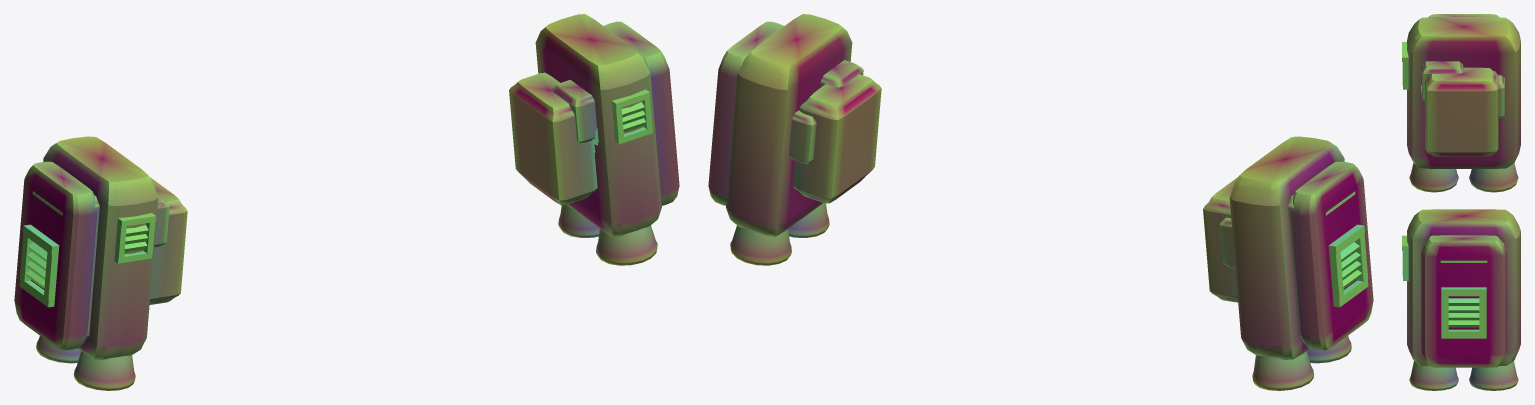
The model's file is llm_gen_leg_thrusters_059_8893b5.glb.
The picture shows the model from 3 angles, left to right: view 1: azimuth 30°, elevation 25°; view 2: azimuth 150°, elevation 25°; view 3: azimuth 270°, elevation 25°; orthographic projection. The views are drawn at different scales.
Visible parts, largest first — view 1: greave_pylon_0_adapter_dark_r, greave_pylon_0_adapter_dark_l, lateral_binder_shroud_2_gold_l, adapter_calf_clamp_r, lateral_binder_shroud_2_gold_r, adapter_calf_clamp_l, ankle_vector_bell_b_7_vernier_bell_vernier_l, ankle_vector_bell_b_7_vernier_bell_vernier_r, adapter_sub_binder_side_vent_3_dark_l, adapter_leg_knee_mount_dark_8_adapter_dark_r, adapter_sub_greave_intake_grille_5_dark_r, adapter_sub_greave_intake_grille_5_dark_l (+4 smaller); view 2: greave_pylon_0_adapter_dark_r, greave_pylon_0_adapter_dark_l, lateral_binder_shroud_2_gold_l, adapter_calf_clamp_r, lateral_binder_shroud_2_gold_r, adapter_calf_clamp_l, ankle_vector_bell_a_6_vernier_bell_vernier_l, ankle_vector_bell_a_6_vernier_bell_vernier_r, adapter_sub_binder_side_vent_3_dark_l, adapter_leg_tank_collar_dark_9_adapter_dark_r, ankle_vector_bell_b_7_vernier_bell_vernier_r, adapter_leg_knee_mount_dark_8_adapter_dark_r (+3 smaller); view 3: greave_pylon_0_adapter_dark_l, lateral_binder_shroud_2_gold_r, greave_pylon_0_adapter_dark_r, adapter_calf_clamp_l, adapter_sub_binder_side_vent_3_dark_r, ankle_vector_bell_a_6_vernier_bell_vernier_r, ankle_vector_bell_b_7_vernier_bell_vernier_r, ankle_vector_bell_a_6_vernier_bell_vernier_l, ankle_vector_bell_b_7_vernier_bell_vernier_l, binder_side_vent_3_intake_gold_r, adapter_leg_knee_mount_dark_8_adapter_dark_l, adapter_sub_greave_intake_grille_5_dark_l (+4 smaller).
Boxes of the visible parts, <box> form: greave_pylon_0_adapter_dark_r: <box>535,14,661,236</box>; greave_pylon_0_adapter_dark_l: <box>43,136,158,359</box>; lateral_binder_shroud_2_gold_l: <box>14,161,97,350</box>; adapter_calf_clamp_r: <box>509,72,597,205</box>; lateral_binder_shroud_2_gold_r: <box>604,21,679,205</box>; adapter_calf_clamp_l: <box>149,177,187,304</box>; ankle_vector_bell_b_7_vernier_bell_vernier_l: <box>73,351,135,390</box>; ankle_vector_bell_b_7_vernier_bell_vernier_r: <box>596,225,657,265</box>; adapter_sub_binder_side_vent_3_dark_l: <box>19,224,59,307</box>; adapter_leg_knee_mount_dark_8_adapter_dark_r: <box>551,79,596,143</box>; adapter_sub_greave_intake_grille_5_dark_r: <box>611,89,652,144</box>; adapter_sub_greave_intake_grille_5_dark_l: <box>114,213,155,263</box>; greave_pylon_0_adapter_dark_r: <box>726,14,852,236</box>; greave_pylon_0_adapter_dark_l: <box>1229,136,1344,359</box>; lateral_binder_shroud_2_gold_l: <box>1290,161,1373,350</box>; adapter_calf_clamp_r: <box>793,74,881,203</box>; lateral_binder_shroud_2_gold_r: <box>708,21,783,205</box>; adapter_calf_clamp_l: <box>1203,177,1238,302</box>; ankle_vector_bell_a_6_vernier_bell_vernier_l: <box>1252,351,1314,390</box>; ankle_vector_bell_a_6_vernier_bell_vernier_r: <box>730,225,791,265</box>; adapter_sub_binder_side_vent_3_dark_l: <box>1328,224,1368,307</box>; adapter_leg_tank_collar_dark_9_adapter_dark_r: <box>789,110,816,163</box>; ankle_vector_bell_b_7_vernier_bell_vernier_r: <box>788,203,829,237</box>; adapter_leg_knee_mount_dark_8_adapter_dark_r: <box>820,60,863,87</box>; greave_pylon_0_adapter_dark_l: <box>1407,17,1520,168</box>; lateral_binder_shroud_2_gold_r: <box>1421,235,1506,367</box>; greave_pylon_0_adapter_dark_r: <box>1407,209,1520,365</box>; adapter_calf_clamp_l: <box>1425,67,1498,156</box>; adapter_sub_binder_side_vent_3_dark_r: <box>1441,287,1486,338</box>; ankle_vector_bell_a_6_vernier_bell_vernier_r: <box>1469,361,1518,390</box>; ankle_vector_bell_b_7_vernier_bell_vernier_r: <box>1409,361,1458,390</box>; ankle_vector_bell_a_6_vernier_bell_vernier_l: <box>1469,163,1518,192</box>; ankle_vector_bell_b_7_vernier_bell_vernier_l: <box>1409,163,1458,192</box>; binder_side_vent_3_intake_gold_r: <box>1448,298,1479,327</box>; adapter_leg_knee_mount_dark_8_adapter_dark_l: <box>1422,61,1463,101</box>; adapter_sub_greave_intake_grille_5_dark_l: <box>1402,42,1408,89</box>.
Bounding box in the file's own units: 85.53 × 26.95 × 17.74.
